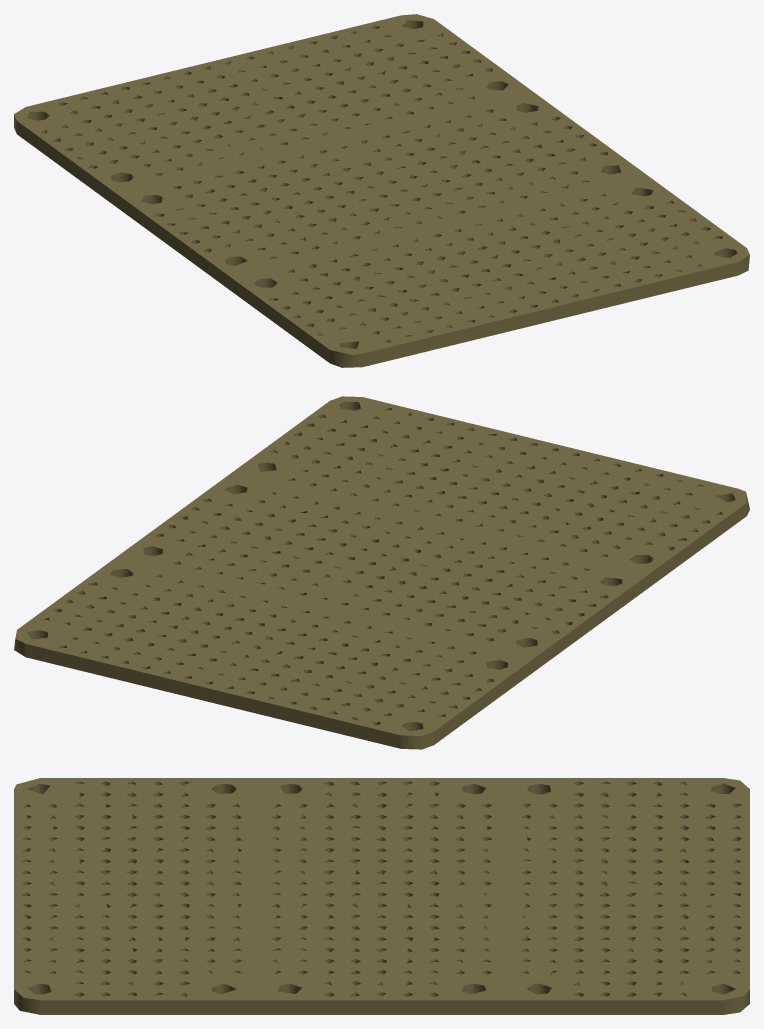
File: ada-3417.glb
3 renders of one model, top to bottom at view 1: azimuth 30°, elevation 25°; view 2: azimuth 150°, elevation 25°; view 3: azimuth 270°, elevation 25°, orthographic. The views are drawn at different scales.
Parts seen in each view (by area): view 1: 0.16666666666666666_0.16666666666666666_0.08333333333333333_; view 2: 0.16666666666666666_0.16666666666666666_0.08333333333333333_; view 3: 0.16666666666666666_0.16666666666666666_0.08333333333333333_.
Boxes of the visible parts, left/top/right/bottom form: 0.16666666666666666_0.16666666666666666_0.08333333333333333_: left=14, top=14, right=749, bottom=367; 0.16666666666666666_0.16666666666666666_0.08333333333333333_: left=14, top=396, right=749, bottom=749; 0.16666666666666666_0.16666666666666666_0.08333333333333333_: left=14, top=778, right=749, bottom=1014.
Bounding box in the file's own units: 5.08 × 0.1571 × 7.11.
